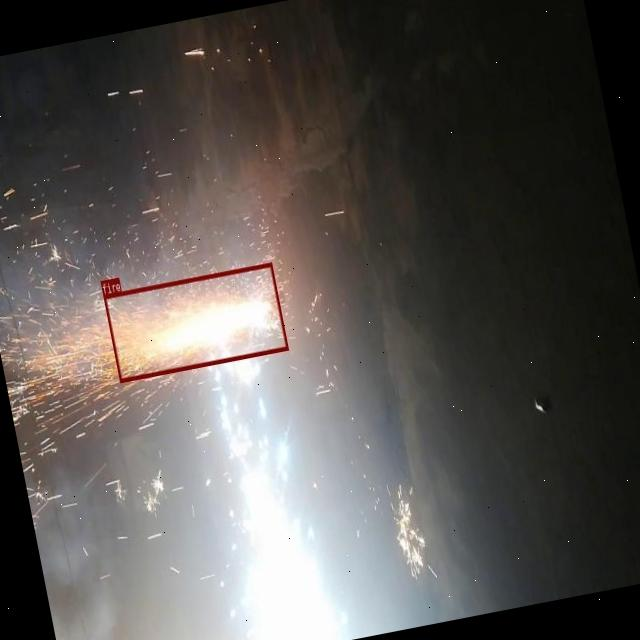fire: (103, 262, 288, 382)
